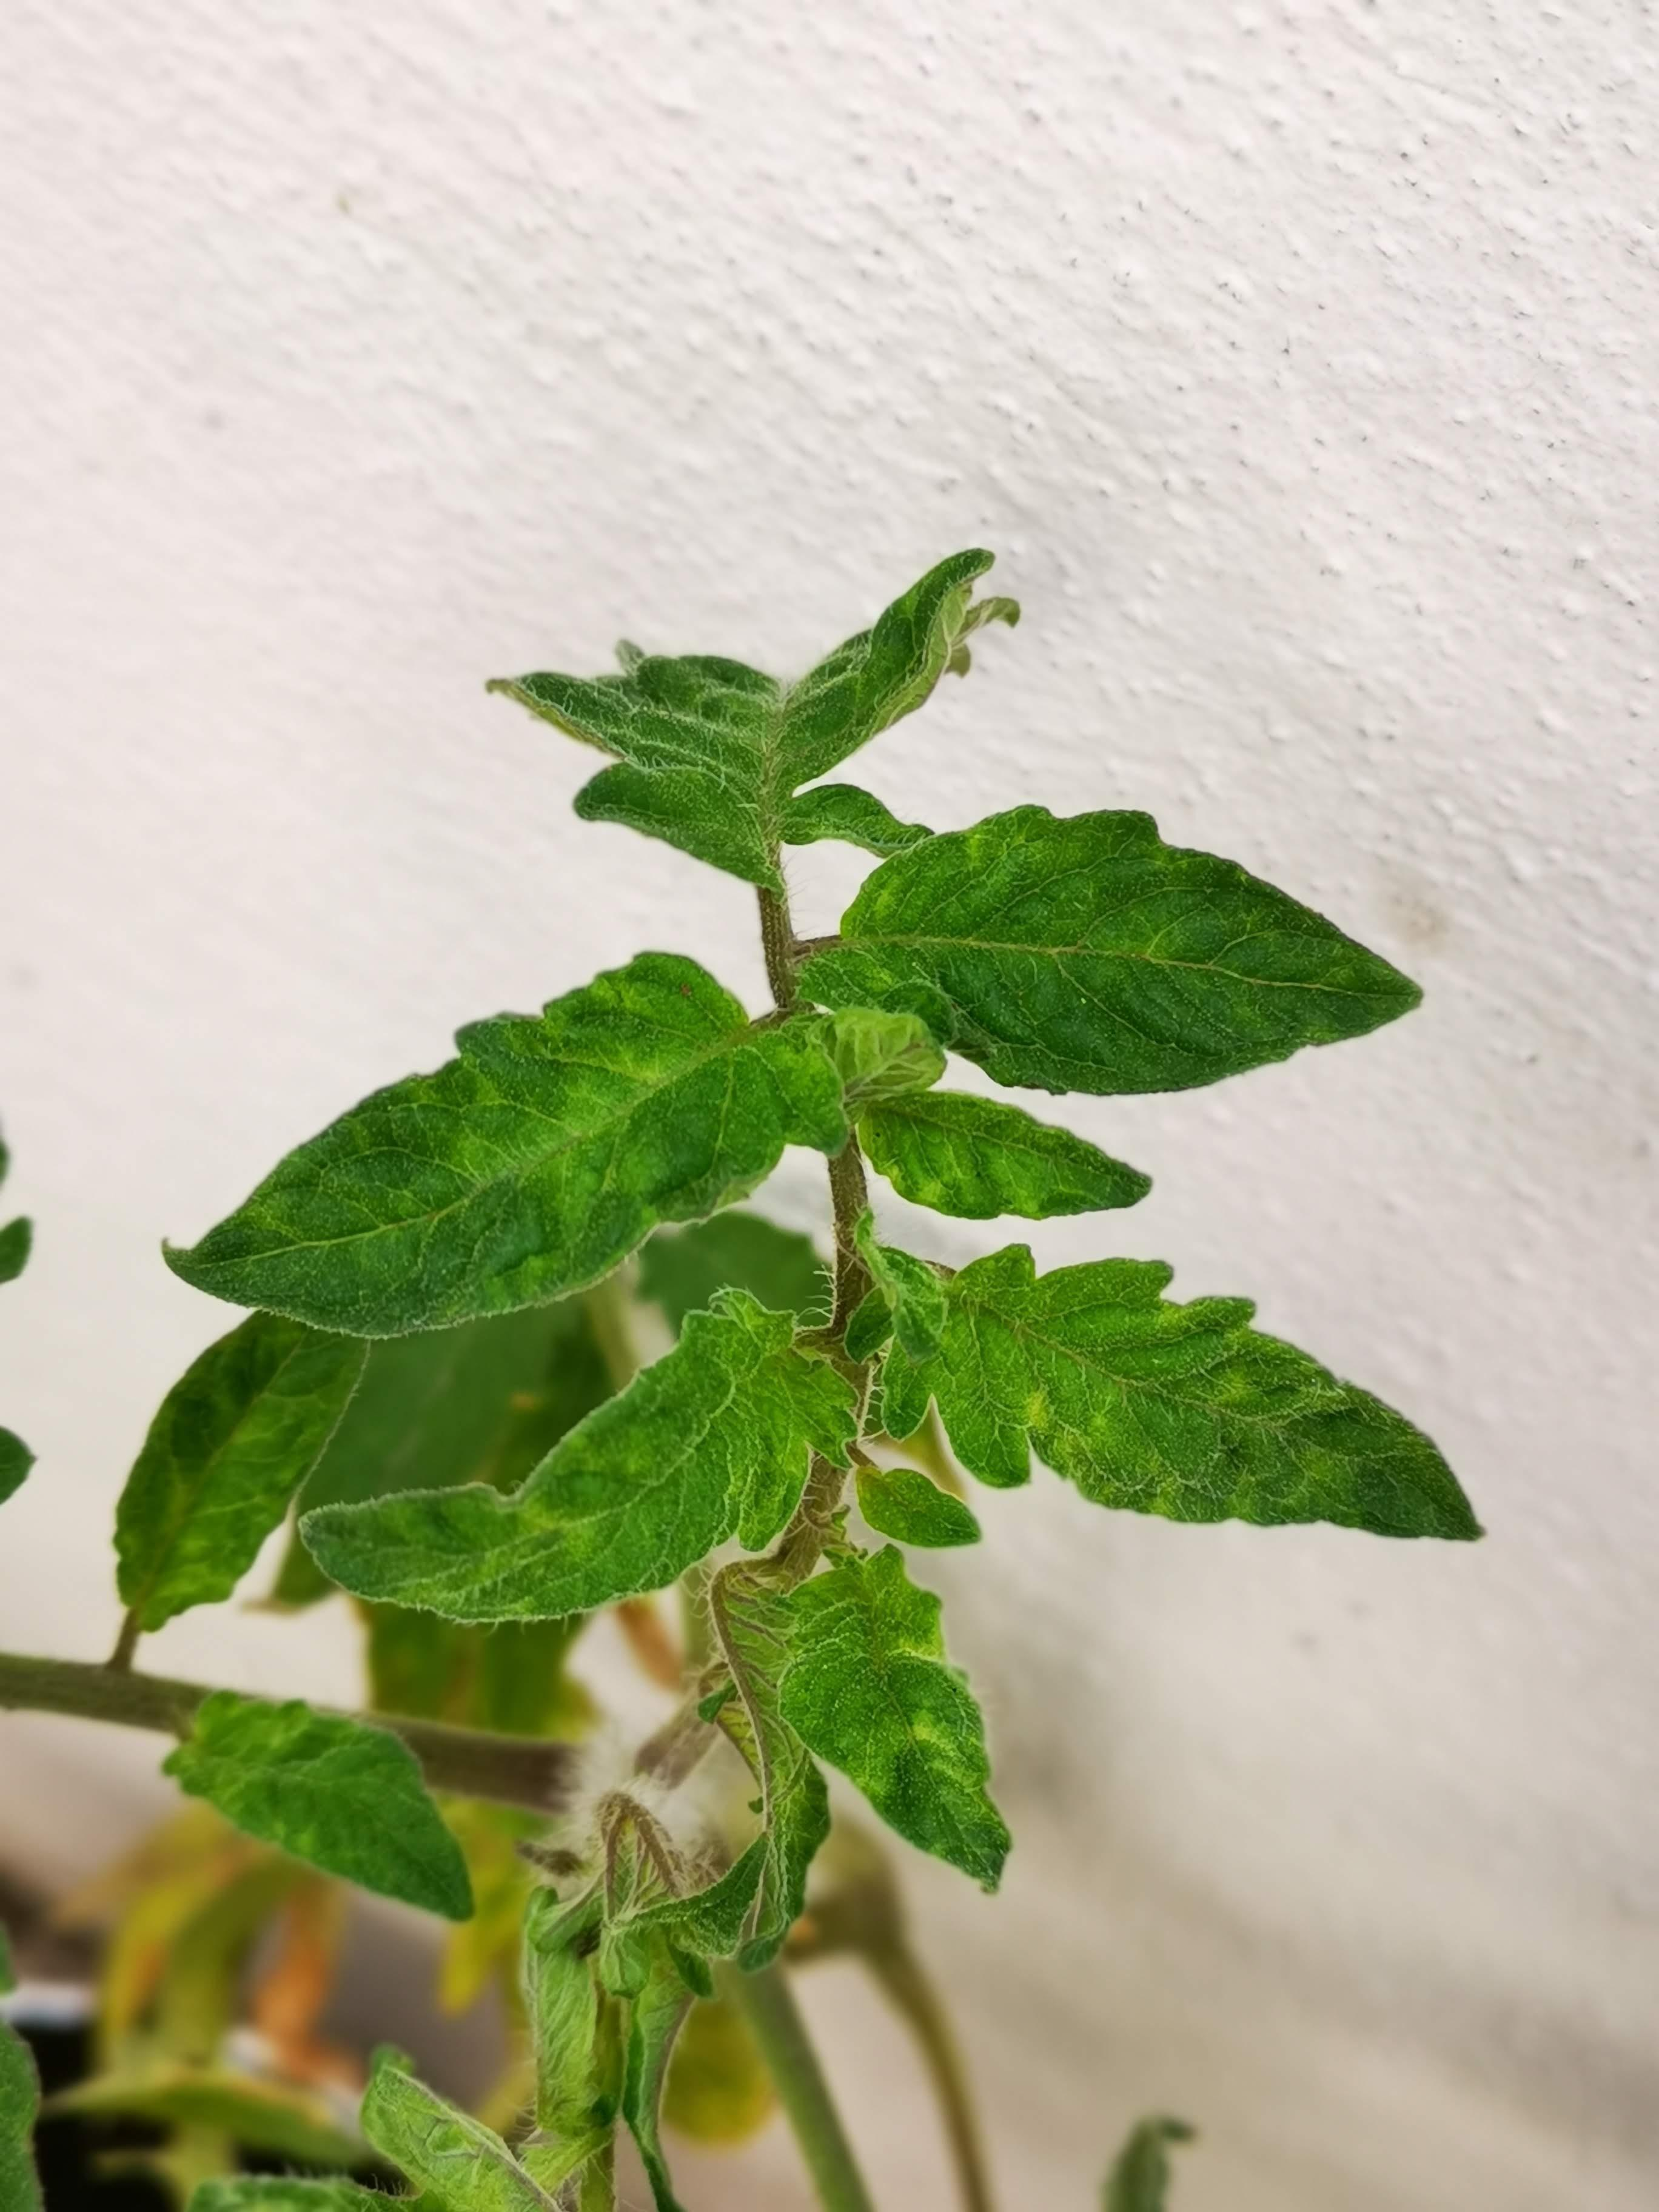Hoja: (854, 1463, 983, 1545)
Hoja rugoso: (155, 951, 849, 1339), (843, 1205, 1486, 1540), (484, 547, 1021, 902), (295, 1289, 859, 1623), (791, 803, 1424, 1096), (526, 1787, 775, 2212), (117, 1313, 368, 1663), (777, 1541, 1012, 1897), (702, 1480, 826, 1968), (859, 1090, 1150, 1219), (362, 2054, 559, 2212)
Pedunculo: (826, 1134, 873, 1339)
